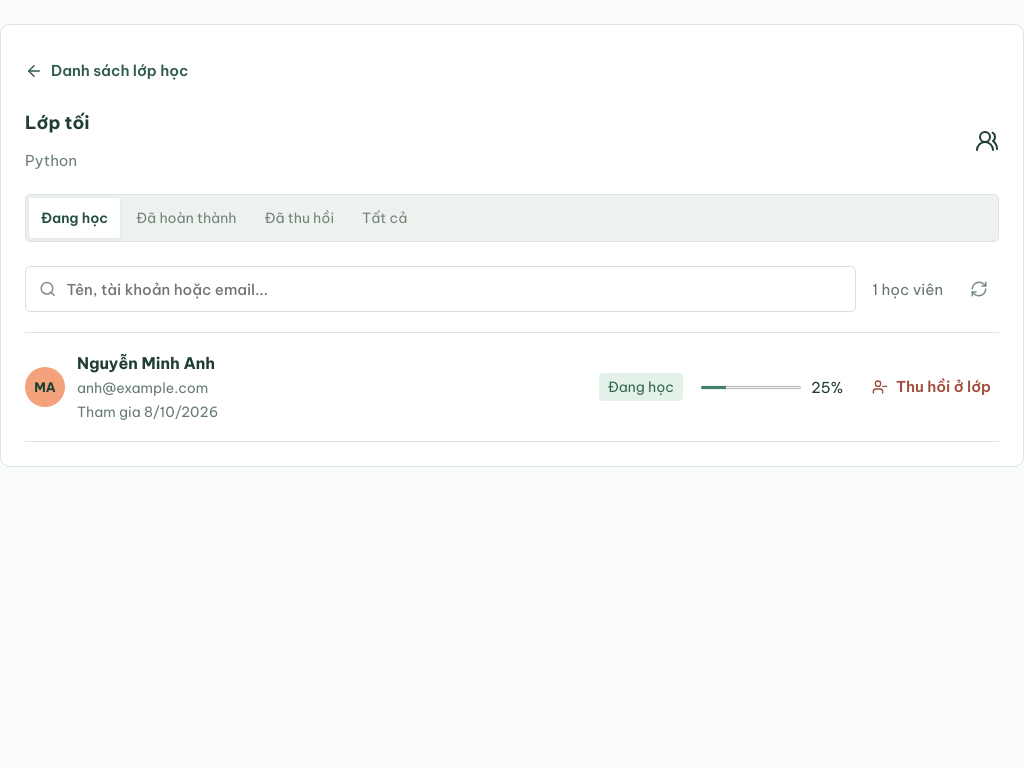
classroom roster › requires confirmation and uses the enrollment id rather than student id
Click the button with aria-label "Thu hồi ghi danh của Nguyễn Minh Anh" at point(931, 387), box [864,365,999,409]
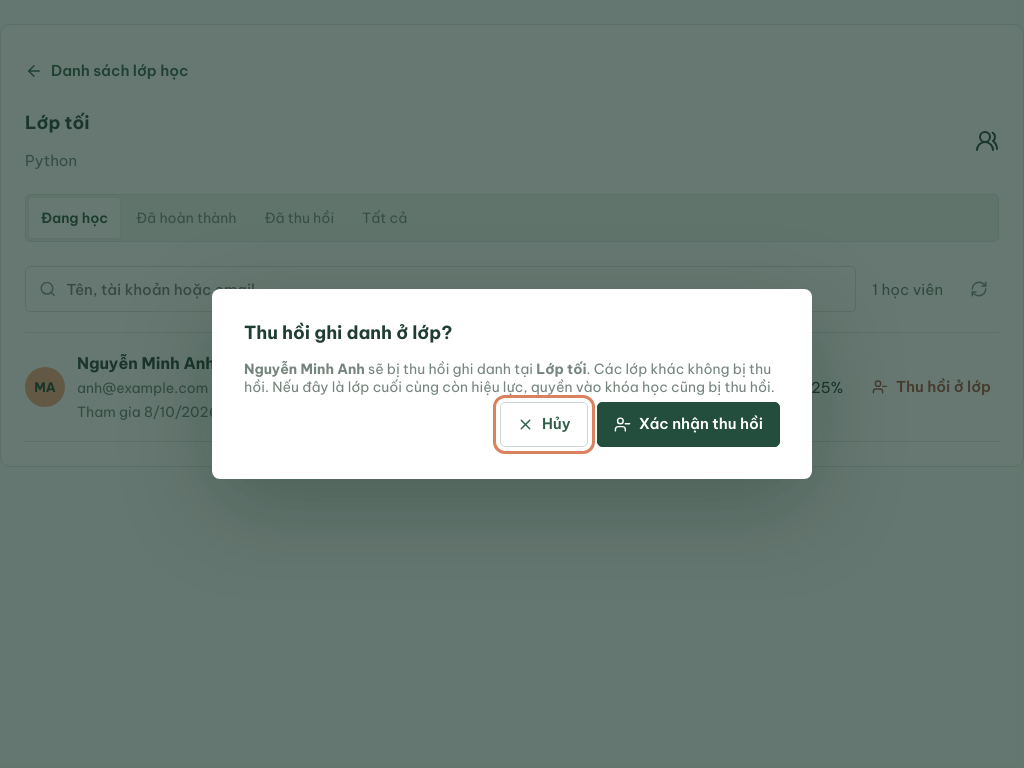
Result: the text "Các lớp khác không bị thu hồi" is shown at [244,360,775,396]
Click the button "Xác nhận thu hồi" at point(688, 425), box [597,402,780,447]
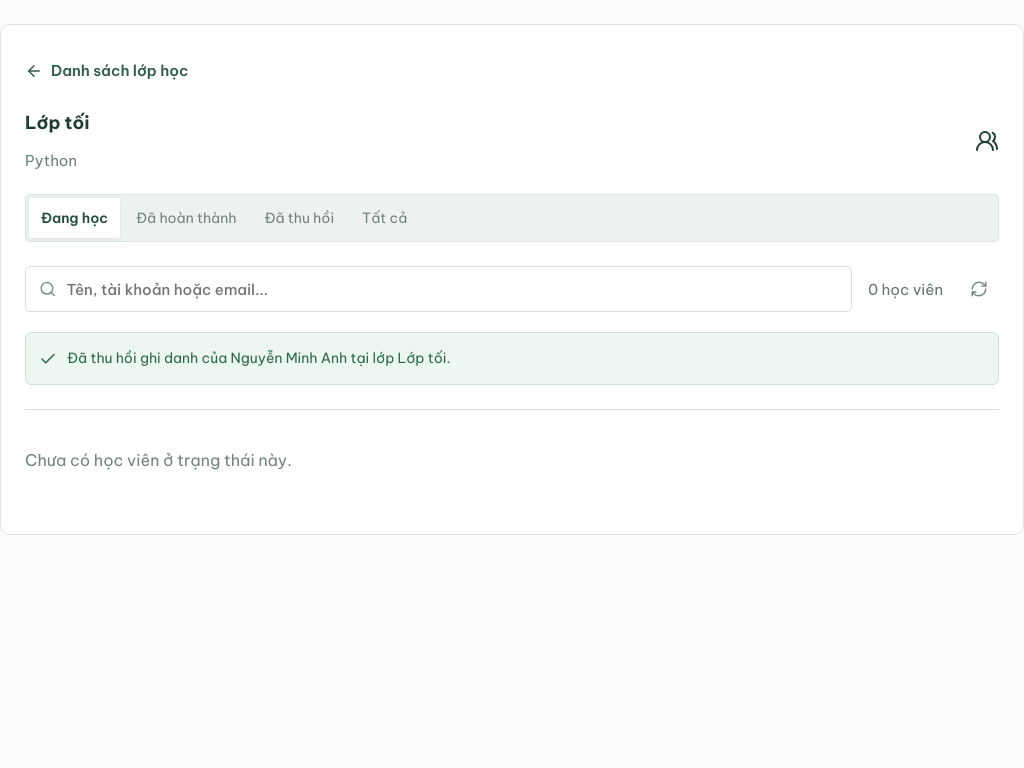
Result: the message shows "Đã thu hồi ghi danh" at [67,349,450,367]
